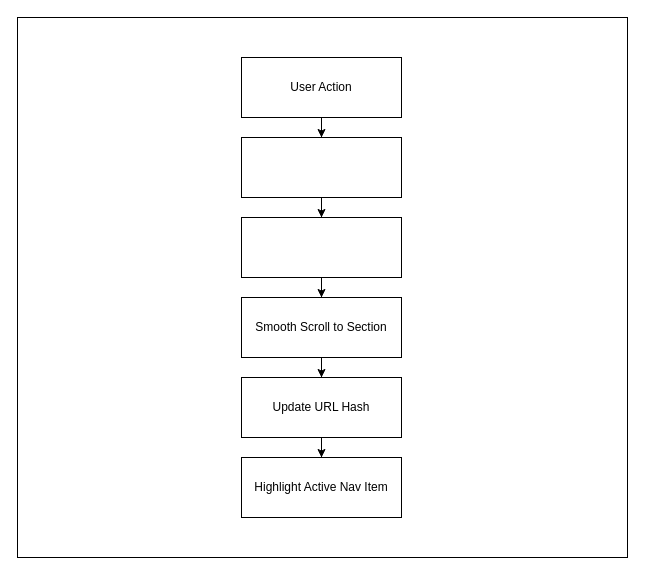
The diagram is 645 pixels wide and 575 high, and some of its shapes have lost their labels. Here are the shapes that lost their labels. From the top down, the box of each, then its label:
(240, 136, 402, 198): Click Navigation Item
(240, 216, 402, 278): Update Active State
